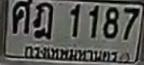1: (70, 4, 80, 36), (88, 6, 98, 38)
7: (123, 7, 139, 40)
8: (102, 7, 119, 39)
A14: (33, 2, 53, 40)
A38: (12, 0, 32, 33)
BKK: (22, 43, 120, 64)
